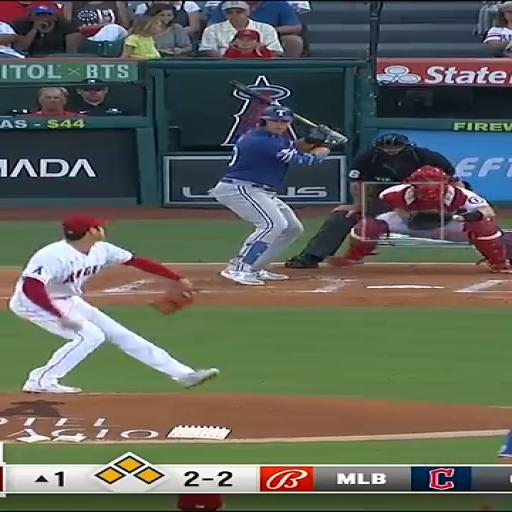bat: (228, 79, 350, 146), (229, 81, 280, 105)
